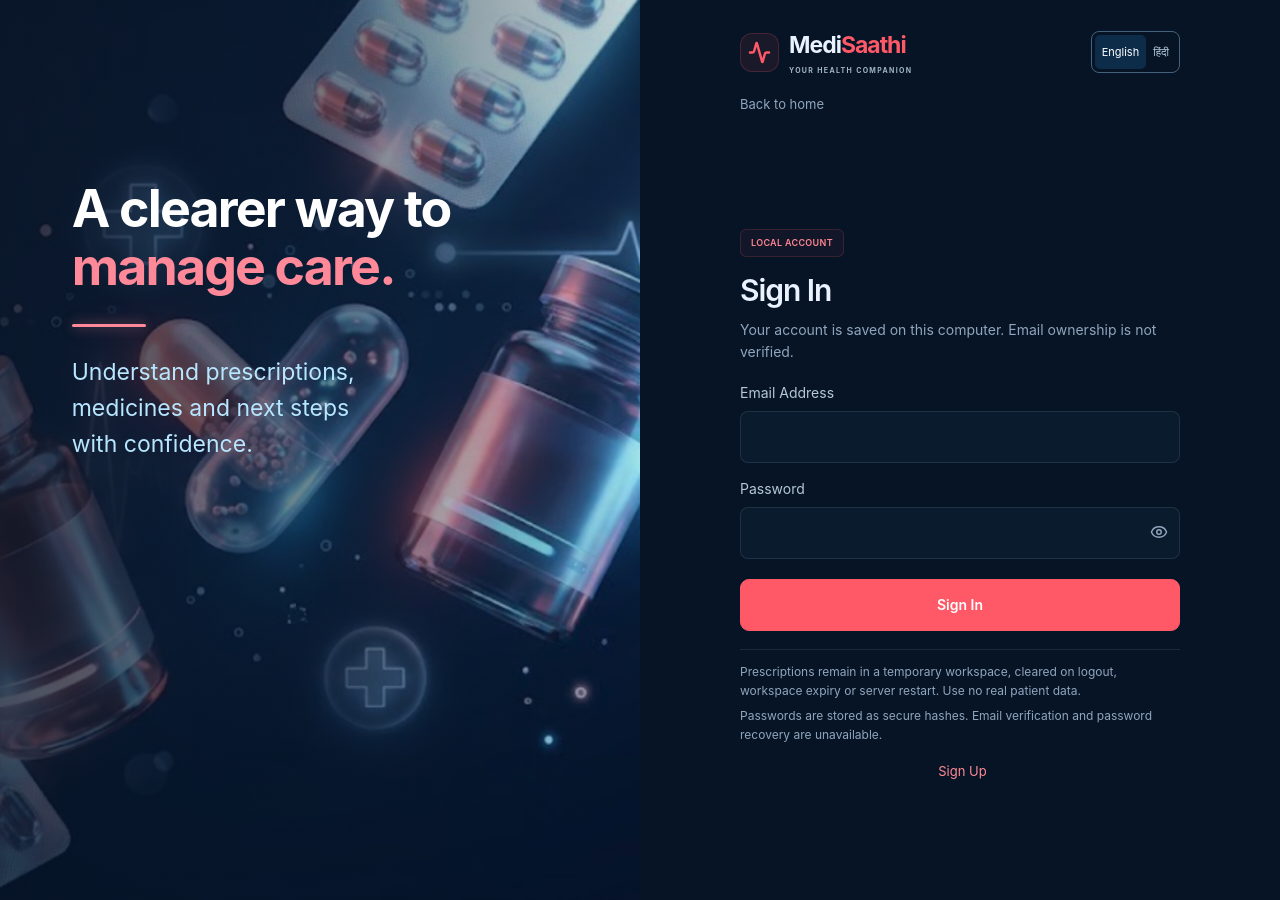
Test: shows email_exists without fake success
In the field labelled "Email Address": {"x": 960, "y": 437} [740,411,1180,463], type "asha@example.test"
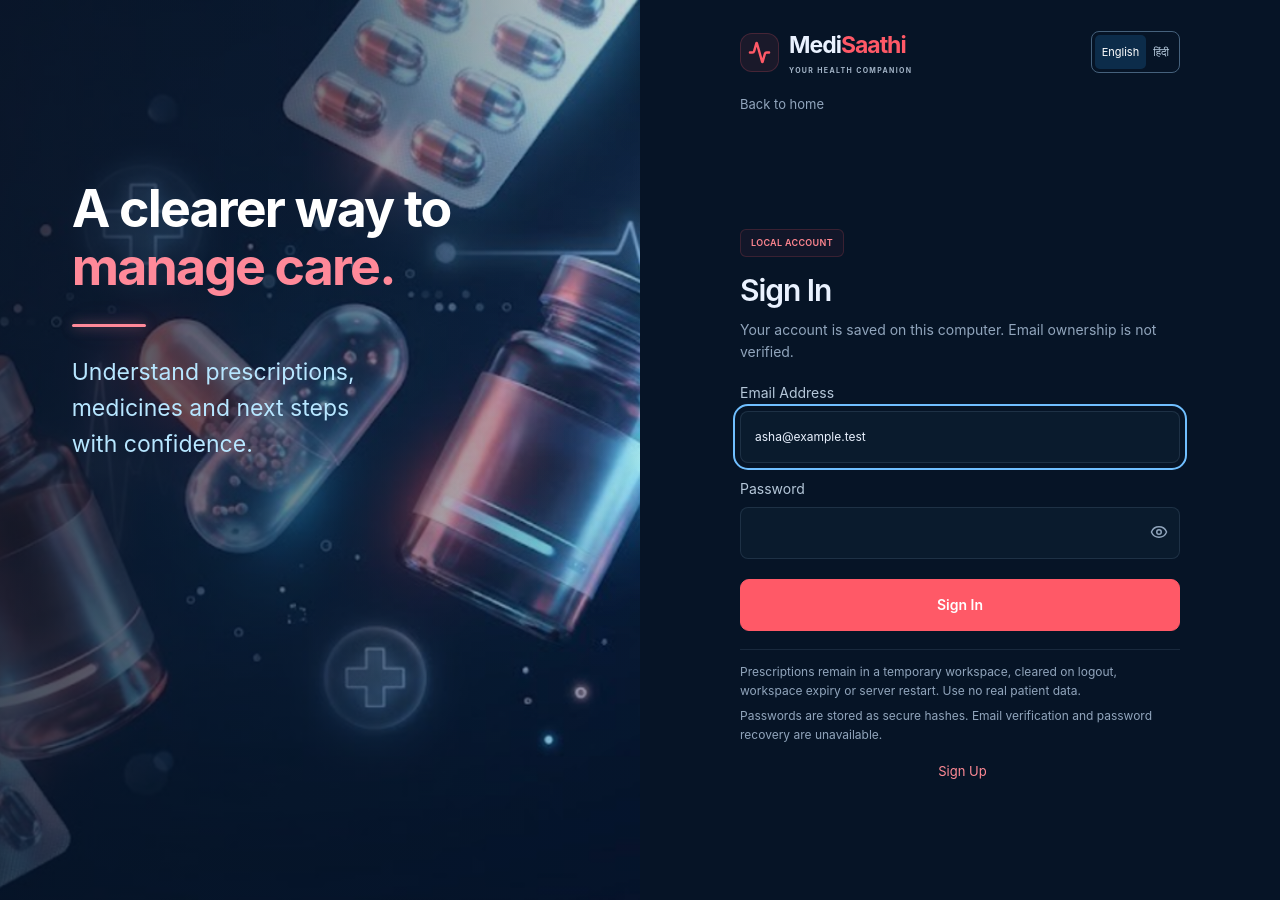
In the password field labelled "Password": {"x": 960, "y": 533} [740,507,1180,559], type "incorrect"
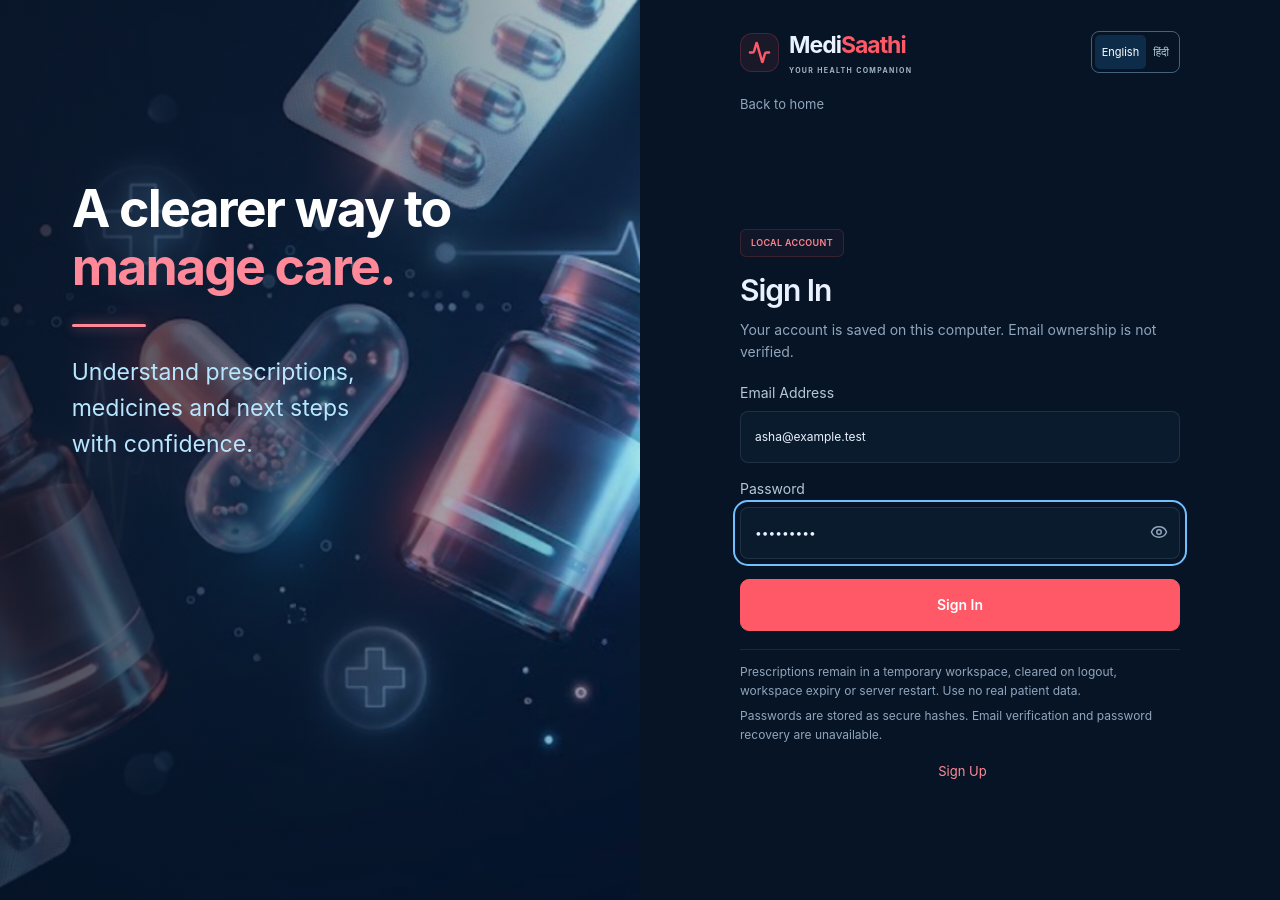
Click the button "Sign In": {"x": 960, "y": 605} [740,579,1180,631]
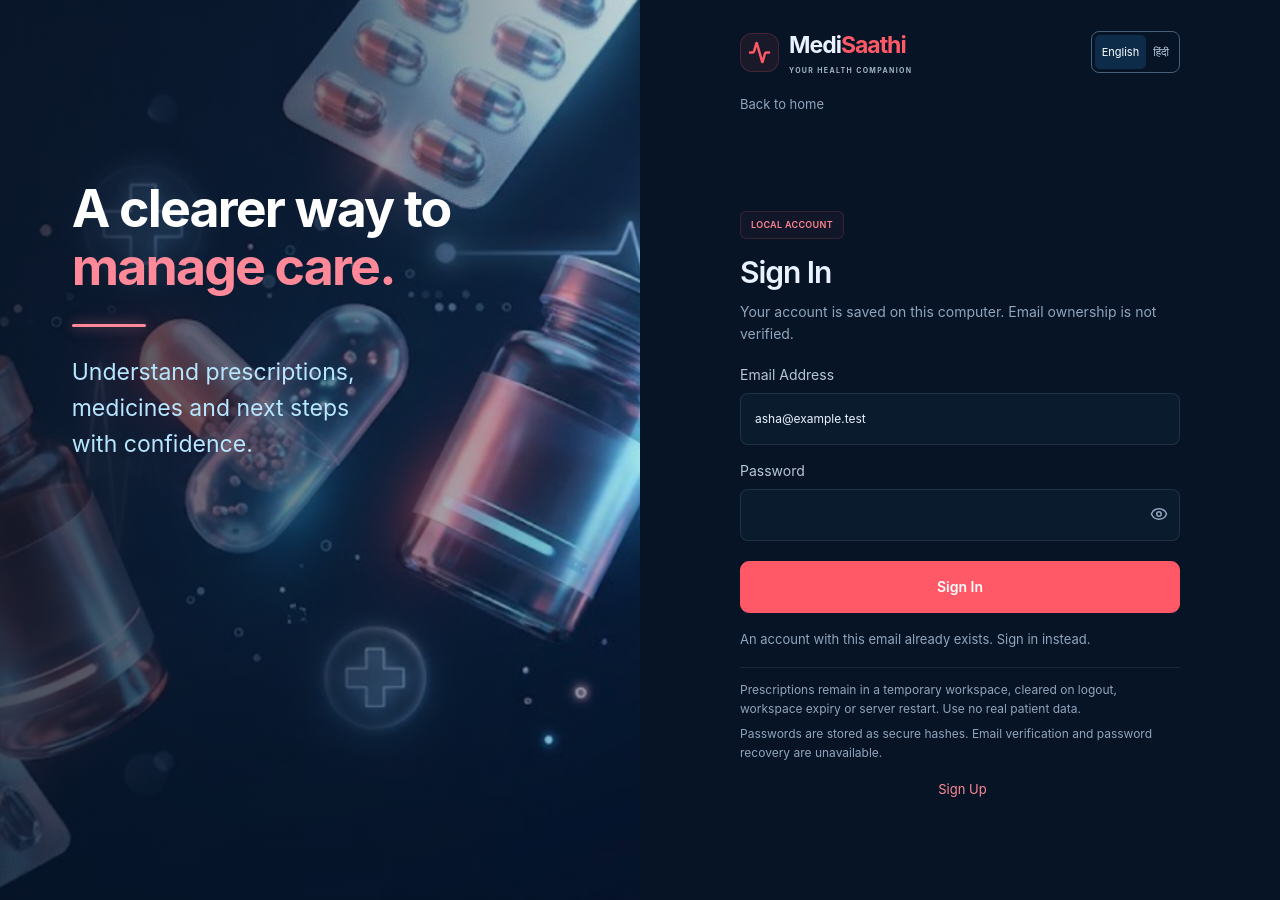
Check: the message reads "An account with this email already exists. Sign in instead.", box [740,631,1090,647]
